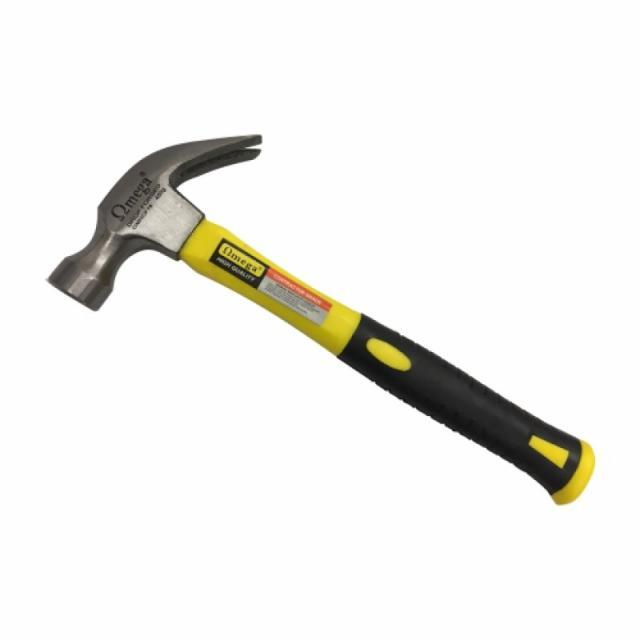hammer: (44, 130, 604, 511)
